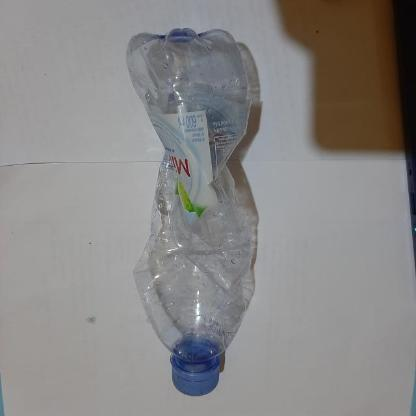Plastic Bottle: (126, 26, 256, 398)
